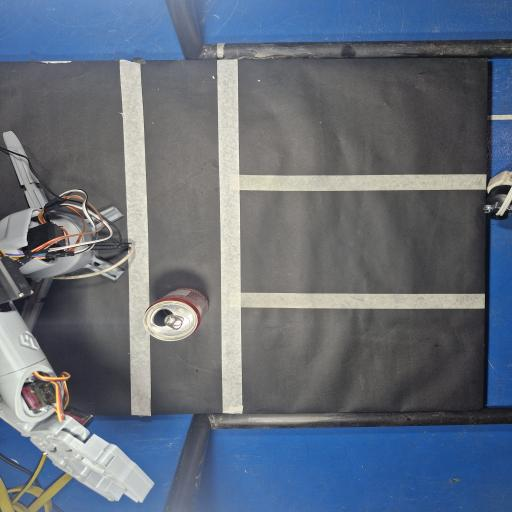lata: (144, 288, 208, 341)
